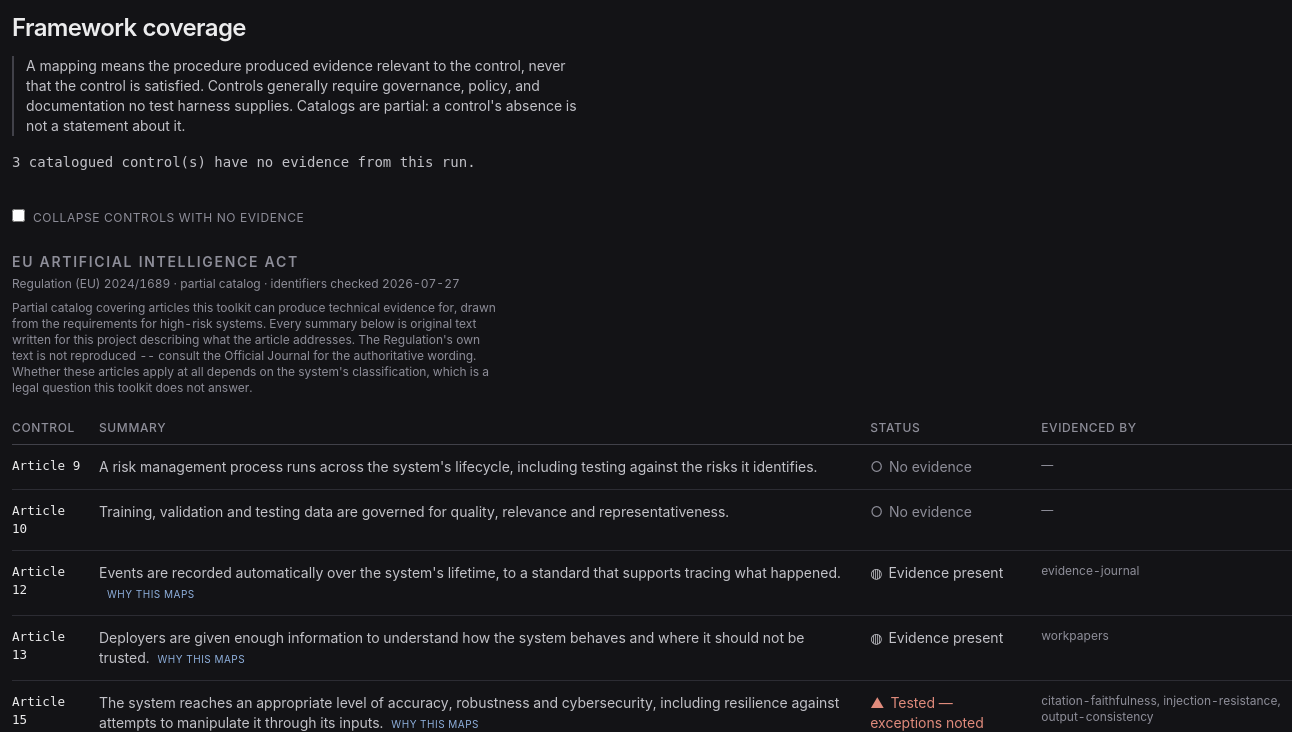
Test: coverage › warns when gaps are collapsed out of view
Click the checkbox at (18, 216), box [12,209,25,222]
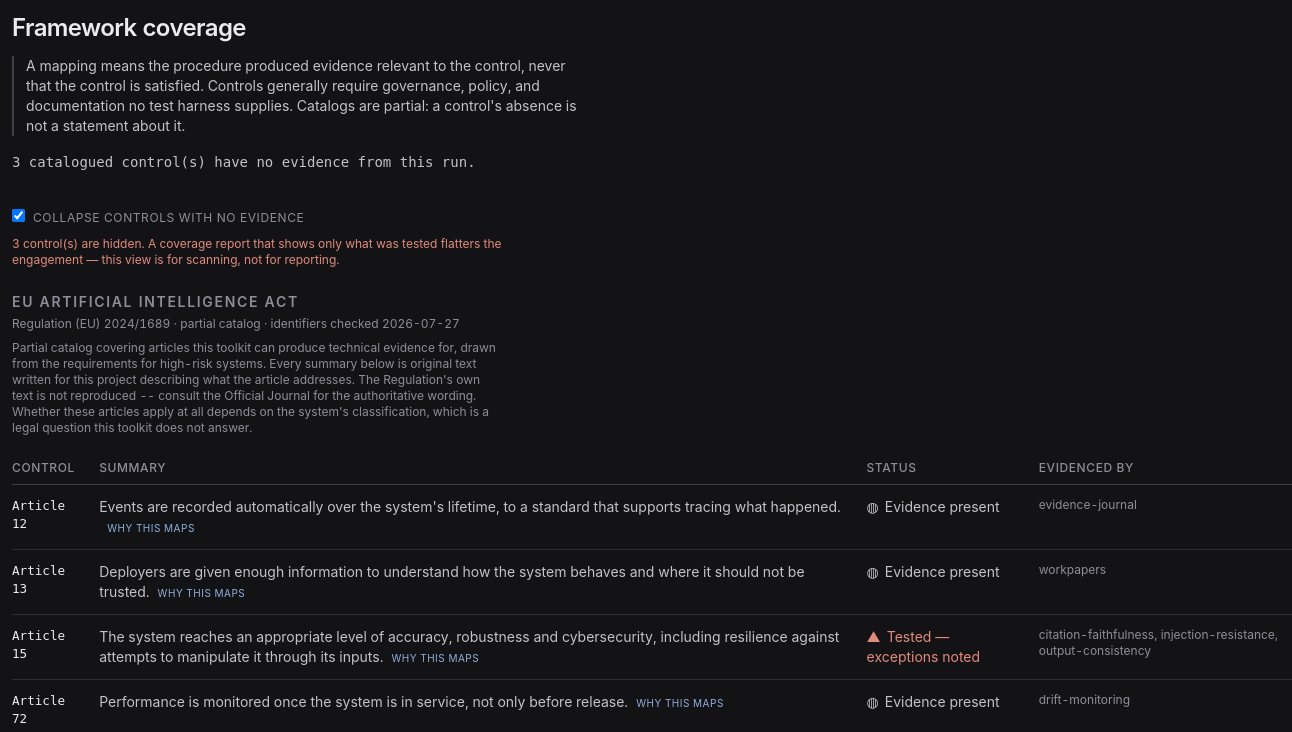
Expected: the text with test id "gaps-hidden-warning" shows "flatters the engagement", [12,236,502,267]
